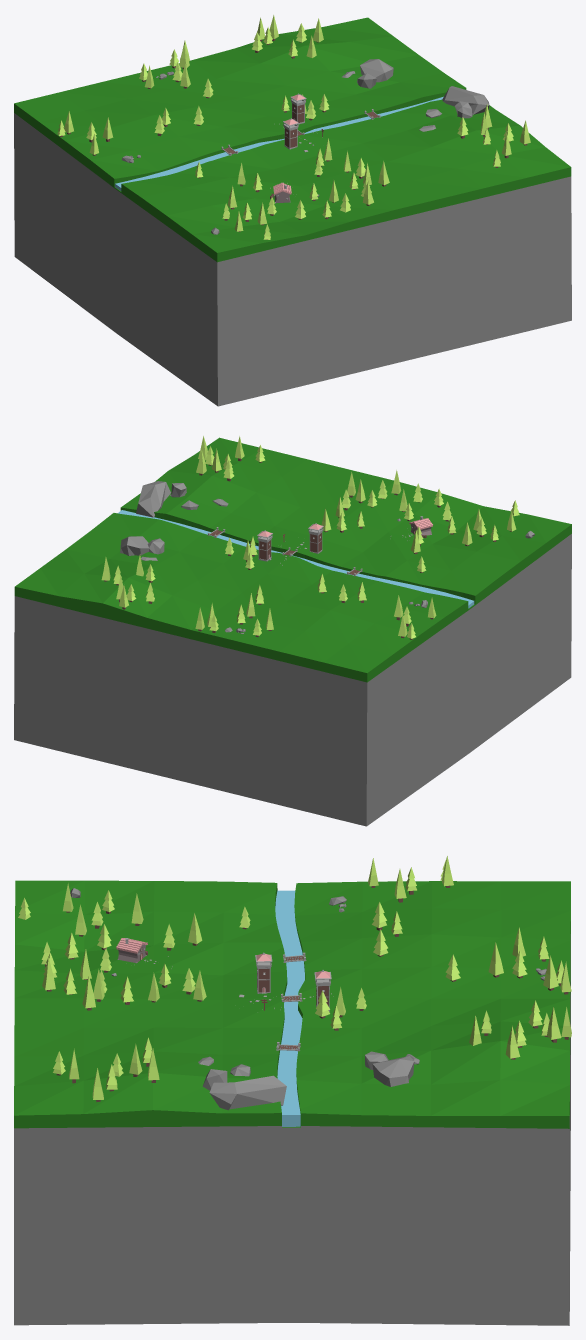
File: LowPolySceneAT.fbx
3 views of the same model, one above another, from view 1: azimuth 30°, elevation 25°; view 2: azimuth 150°, elevation 25°; view 3: azimuth 270°, elevation 25° (orthographic). The views are drawn at different scales.
Parts seen in each view (by area): view 1: Ground, River, Rock.005, Rock.001; view 2: Ground, River, Rock.005, Rock.001; view 3: Ground, River, Rock.005, Rock.001, House, Tower.001.
Part boxes in pixels (left/top/right/bottom): Ground: left=14, top=17, right=571, bottom=406; River: left=115, top=96, right=443, bottom=190; Rock.005: left=442, top=86, right=489, bottom=114; Rock.001: left=360, top=59, right=393, bottom=82; Ground: left=14, top=437, right=571, bottom=826; River: left=118, top=510, right=474, bottom=608; Rock.005: left=136, top=481, right=170, bottom=517; Rock.001: left=120, top=536, right=149, bottom=555; Ground: left=14, top=880, right=570, bottom=1325; River: left=275, top=890, right=304, bottom=1126; Rock.005: left=209, top=1075, right=286, bottom=1110; Rock.001: left=372, top=1056, right=414, bottom=1086; House: left=116, top=938, right=147, bottom=963; Tower.001: left=255, top=952, right=272, bottom=993.
Size of the model in its own units: 40351 by 20483 by 40190.
